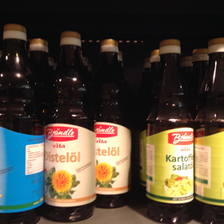oil: (44, 30, 94, 223), (146, 37, 193, 224), (2, 23, 43, 224), (92, 38, 132, 207)
